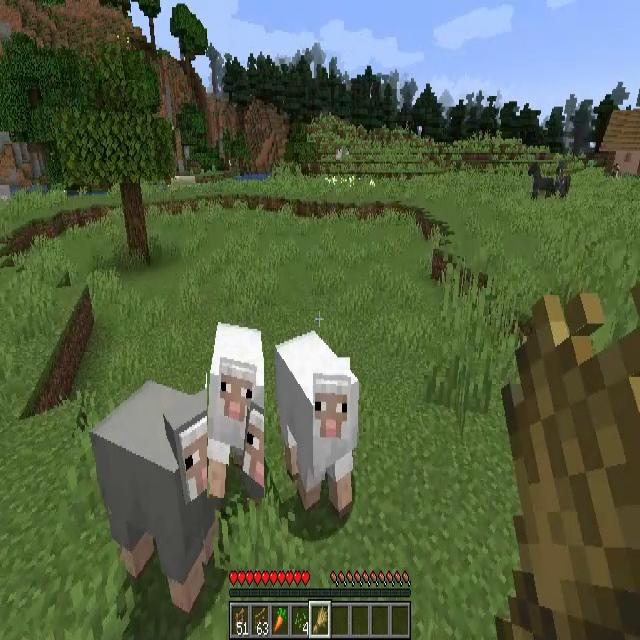sheep: (92, 379, 227, 610), (275, 329, 359, 508), (207, 322, 264, 498)
